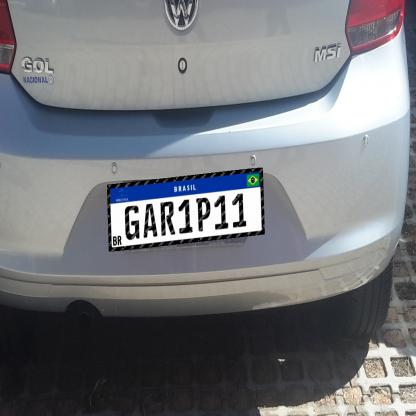PlacaM: (107, 168, 265, 252)
